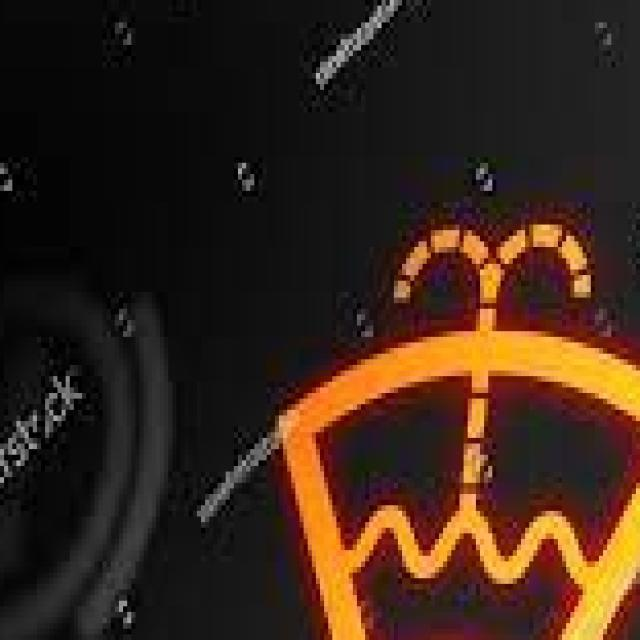Washer Fluid: (276, 226, 640, 640)
